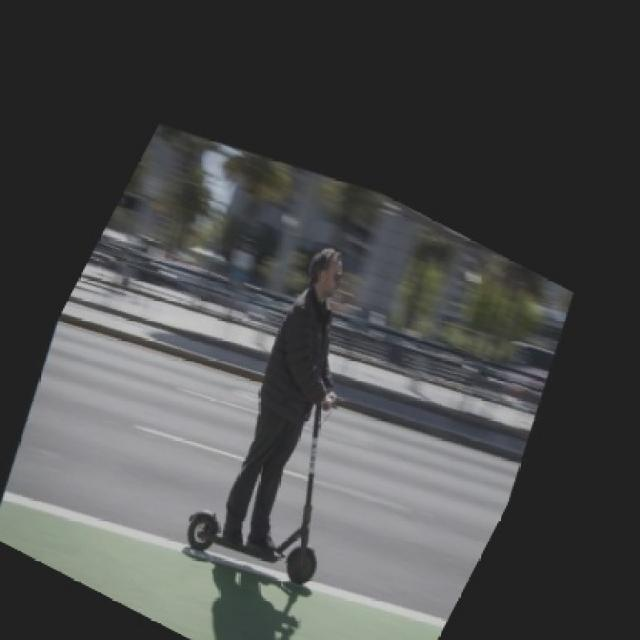bare_head: (304, 244, 358, 301)
human: (203, 224, 344, 556)
kickboard: (162, 508, 328, 601)
